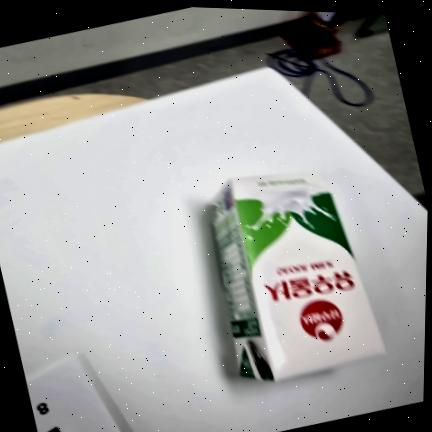milk_green: (202, 166, 385, 379)
